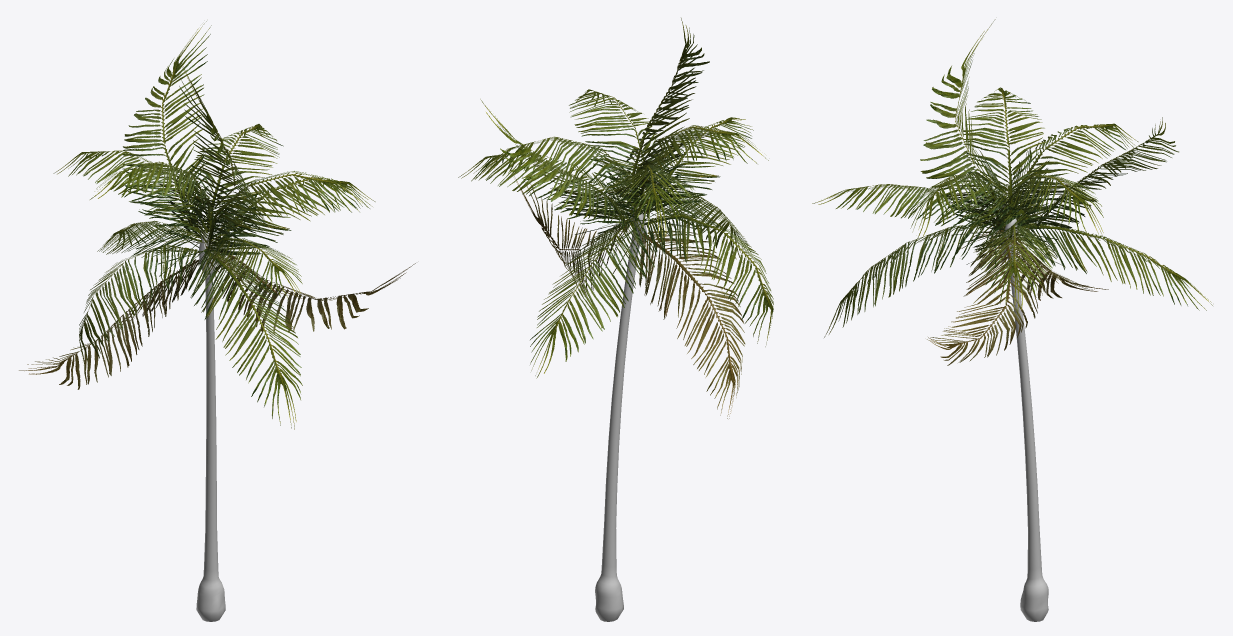
File: SM_Veg_PalmTree_04.FBX
3 renders of one model, left to right at view 1: azimuth 30°, elevation 25°; view 2: azimuth 150°, elevation 25°; view 3: azimuth 270°, elevation 25°, orthographic. The views are drawn at different scales.
Parts seen in each view (by area): view 1: SM_Veg_PalmTree_04_LOD0; view 2: SM_Veg_PalmTree_04_LOD0; view 3: SM_Veg_PalmTree_04_LOD0.
Boxes of the visible parts, left/top/right/bottom form: SM_Veg_PalmTree_04_LOD0: left=19, top=21, right=415, bottom=621; SM_Veg_PalmTree_04_LOD0: left=458, top=18, right=773, bottom=621; SM_Veg_PalmTree_04_LOD0: left=812, top=19, right=1212, bottom=621.
Size of what is drawn, in the model's own units: 7.61 by 13.55 by 8.68.
